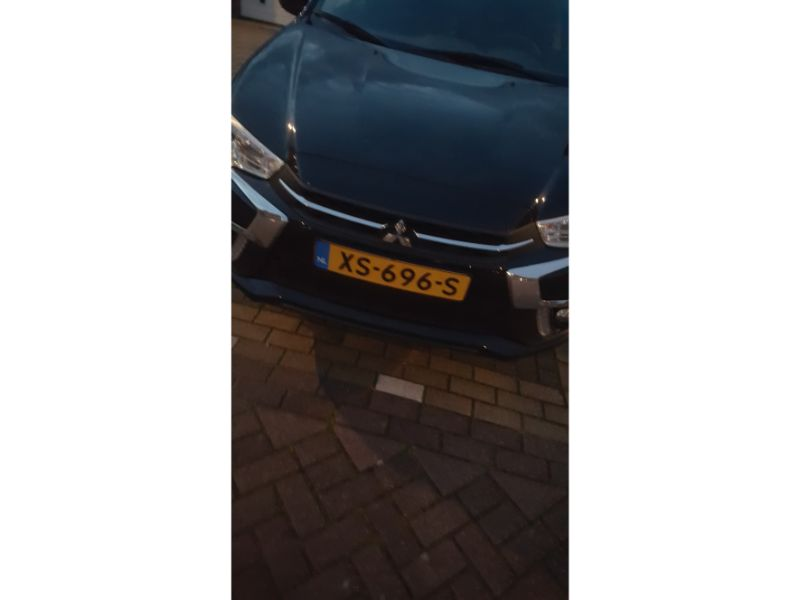kenteken: (307, 244, 471, 310)
